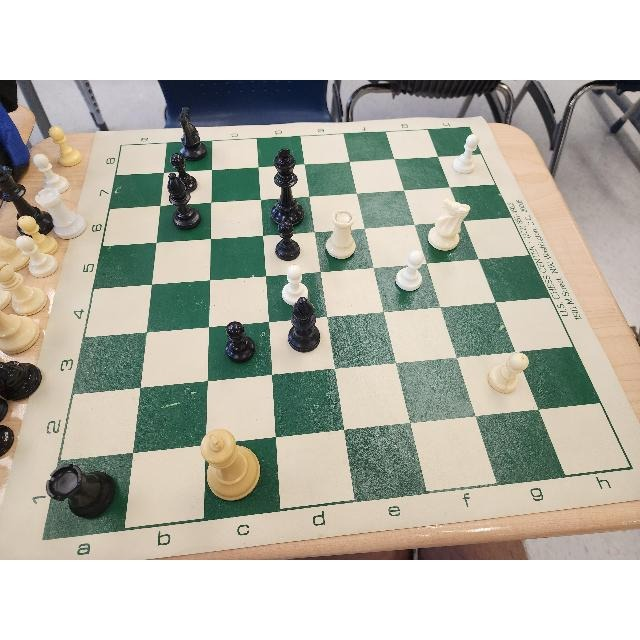black-bishop: (165, 173, 200, 231), (290, 296, 318, 352)
black-king: (274, 148, 304, 224)
black-knight: (175, 105, 209, 160)
black-pawn: (226, 320, 254, 362), (168, 154, 198, 193), (276, 219, 300, 261)
black-queen: (0, 164, 55, 236)
black-rook: (47, 461, 121, 518)
white-king: (199, 428, 263, 500)
white-knight: (427, 197, 471, 251)
white-pawn: (0, 266, 48, 315), (486, 352, 529, 392), (15, 236, 57, 275), (17, 213, 56, 253), (33, 152, 70, 194), (48, 128, 83, 168), (395, 248, 425, 292), (455, 134, 481, 175), (282, 264, 307, 306)
white-rook: (36, 188, 88, 238), (324, 209, 358, 258)
